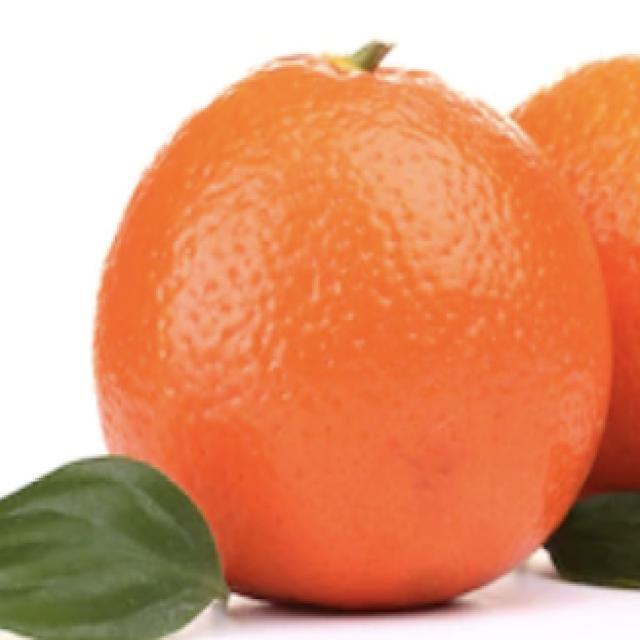Orange: (90, 40, 615, 611), (507, 52, 639, 496)
